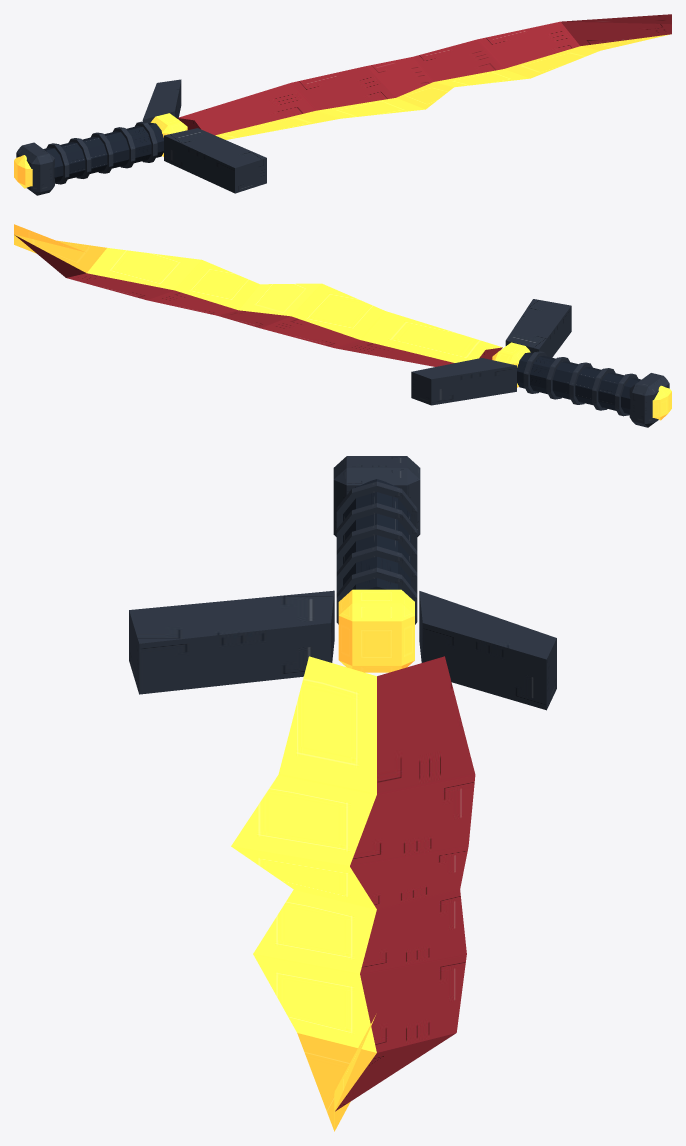
File: blazebrand.glb
The picture shows the model from 3 angles, top to bottom: view 1: azimuth 30°, elevation 25°; view 2: azimuth 150°, elevation 25°; view 3: azimuth 270°, elevation 25°; orthographic projection. The views are drawn at different scales.
Parts seen in each view (by area): view 1: blade, grip, guard; view 2: blade, guard, grip; view 3: blade, guard, grip.
Boxes of the visible parts, x1,y1,x2,y2 form: blade: (178,14,671,139); grip: (14,121,163,195); guard: (142,79,266,193); blade: (14,224,502,366); guard: (411,299,571,405); grip: (517,351,671,427); blade: (231,656,475,1131); guard: (129,589,556,710); grip: (333,456,420,624).
Size of the model in its own units: 0.8755 by 0.051 by 0.252.
Materials: 4 (4 with a texture image).
